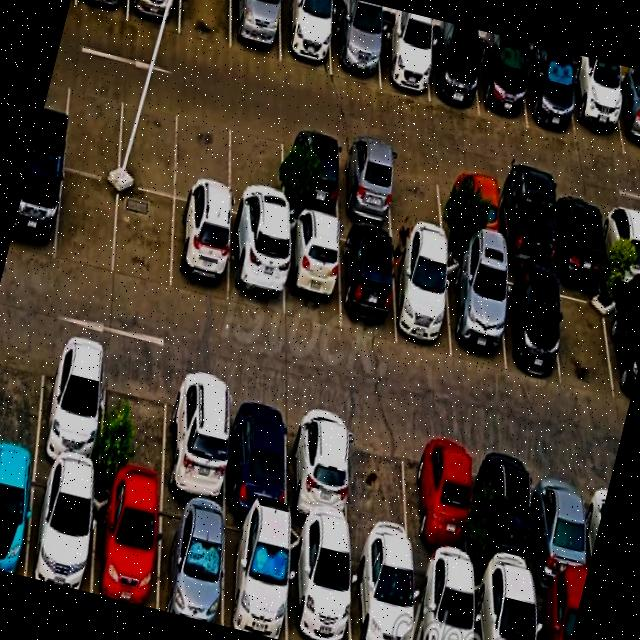empty: (99, 350, 169, 494), (347, 413, 411, 555), (556, 275, 616, 395), (118, 86, 180, 197), (55, 170, 119, 275), (62, 72, 123, 180), (113, 185, 174, 292), (0, 324, 46, 459), (174, 101, 229, 210), (229, 114, 282, 225), (389, 151, 443, 241), (179, 0, 231, 48)
occupied: (35, 334, 107, 477), (163, 367, 229, 509), (26, 464, 95, 592), (225, 382, 288, 522), (92, 480, 159, 609), (157, 496, 224, 625), (287, 399, 348, 540), (222, 513, 287, 640), (412, 426, 469, 570), (534, 455, 588, 594), (482, 442, 534, 583), (287, 528, 350, 640), (445, 255, 505, 371), (498, 266, 559, 379), (393, 240, 450, 357), (340, 226, 396, 340), (284, 214, 339, 329), (170, 199, 229, 303), (350, 546, 413, 640), (8, 156, 63, 261), (228, 215, 283, 318), (495, 177, 553, 273), (443, 164, 498, 257), (283, 127, 338, 220), (413, 557, 474, 640), (339, 139, 393, 231), (568, 66, 624, 154), (553, 189, 605, 280), (525, 52, 575, 142), (426, 33, 478, 115), (478, 41, 527, 128), (474, 571, 535, 640), (0, 456, 35, 576), (377, 20, 428, 101), (280, 0, 331, 75), (331, 9, 379, 86), (610, 287, 640, 404), (603, 200, 640, 287), (230, 0, 280, 62), (534, 584, 582, 640), (613, 76, 640, 159), (127, 0, 180, 33), (75, 0, 128, 20)
